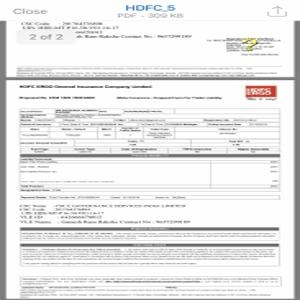image: (243, 83, 278, 98)
table: (18, 107, 280, 155), (19, 156, 282, 198)
text: (17, 201, 192, 224), (16, 83, 155, 92)
